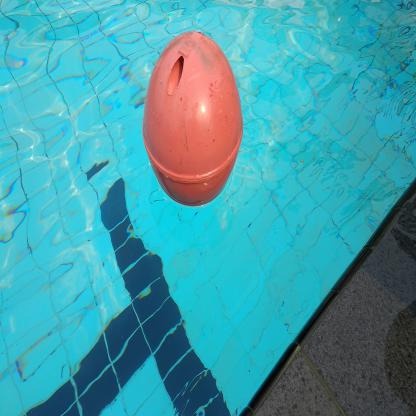red_buoy: (138, 27, 249, 210)
